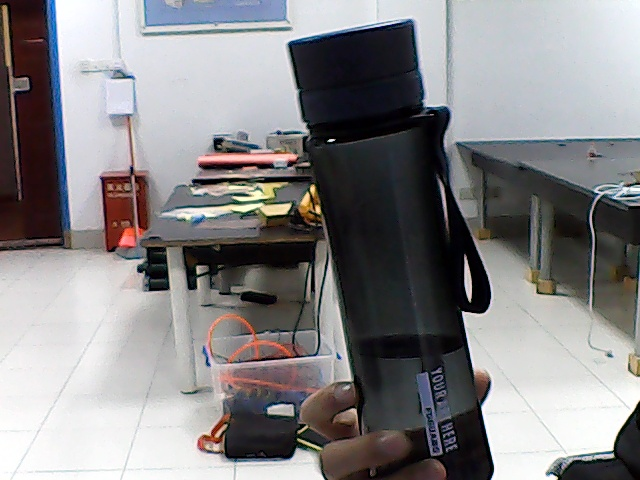cup: (338, 35, 436, 426)
